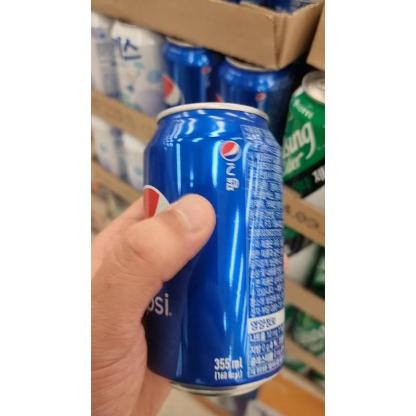Can: (144, 99, 286, 401)
